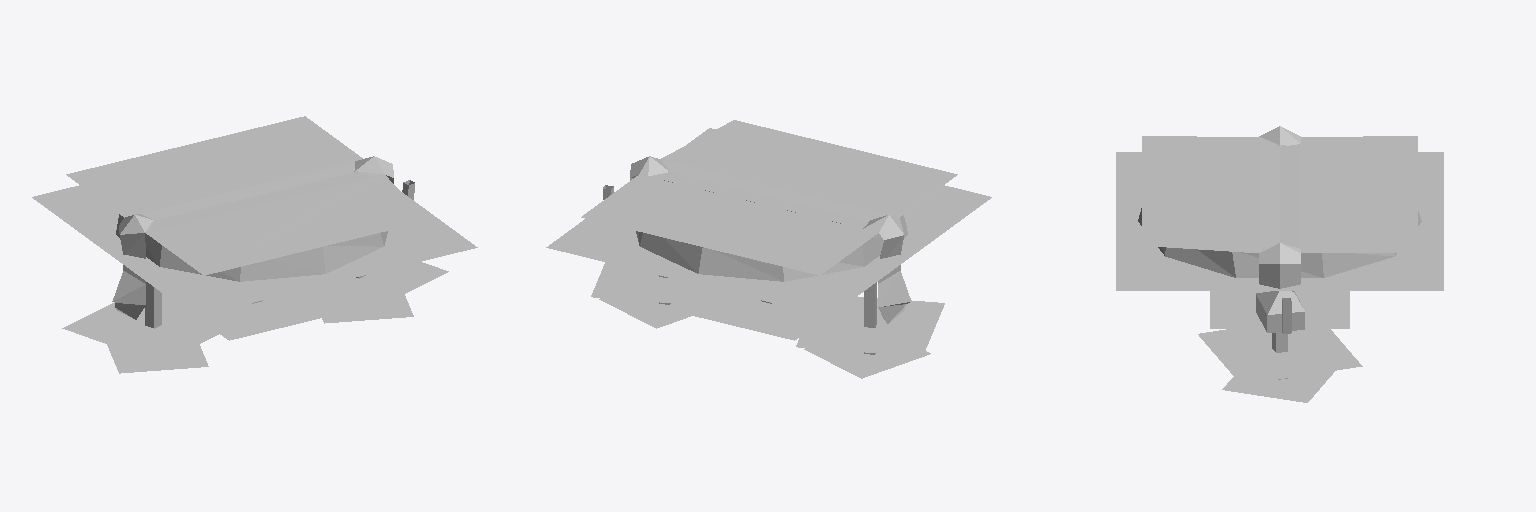
File: jumppad.obj
3 views of the same model, side by side, from view 1: azimuth 30°, elevation 25°; view 2: azimuth 150°, elevation 25°; view 3: azimuth 270°, elevation 25° (orthographic).
Parts seen in each view (by area): view 1: stilljumppadbody_Cylinder.001, floatingjamppadbody_Cylinder.002, UPdwnfan1_Plane.003, UPdwnfan2_Plane.002, fanwithgear_Plane; view 2: stilljumppadbody_Cylinder.001, UPdwnfan1_Plane.003, floatingjamppadbody_Cylinder.002, UPdwnfan2_Plane.002, fanwithgear_Plane; view 3: stilljumppadbody_Cylinder.001, floatingjamppadbody_Cylinder.002, UPdwnfan2_Plane.002, fanwithgear_Plane.
Part boxes in pixels (x1,y1,x2,y2): stilljumppadbody_Cylinder.001: (32, 116, 477, 316); floatingjamppadbody_Cylinder.002: (61, 176, 447, 319); UPdwnfan1_Plane.003: (62, 282, 218, 373); UPdwnfan2_Plane.002: (318, 262, 448, 323); fanwithgear_Plane: (196, 287, 348, 340); stilljumppadbody_Cylinder.001: (546, 121, 991, 316); UPdwnfan1_Plane.003: (796, 282, 944, 378); floatingjamppadbody_Cylinder.002: (576, 120, 962, 323); UPdwnfan2_Plane.002: (591, 262, 705, 328); fanwithgear_Plane: (675, 287, 827, 340); stilljumppadbody_Cylinder.001: (1116, 126, 1443, 290); floatingjamppadbody_Cylinder.002: (1138, 138, 1421, 333); UPdwnfan2_Plane.002: (1198, 329, 1362, 402); fanwithgear_Plane: (1210, 291, 1349, 328).
Size of the model in its own units: 13.6 by 5.3 by 11.06.